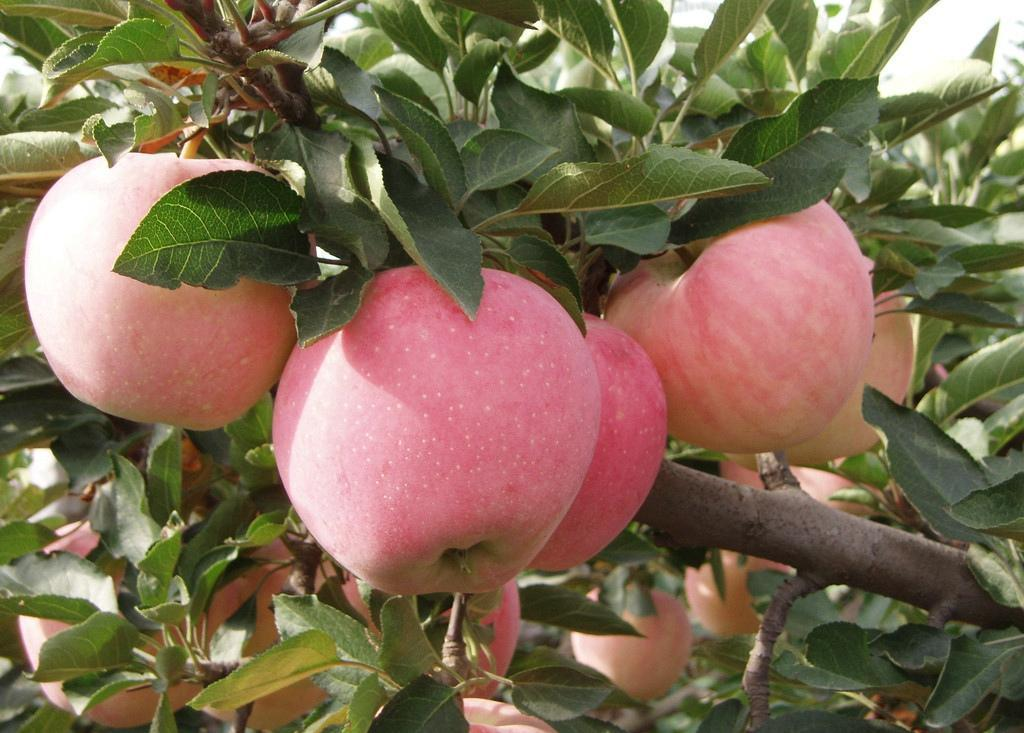apple: (274, 261, 604, 596), (21, 148, 293, 430), (611, 197, 875, 457), (533, 312, 670, 573)
